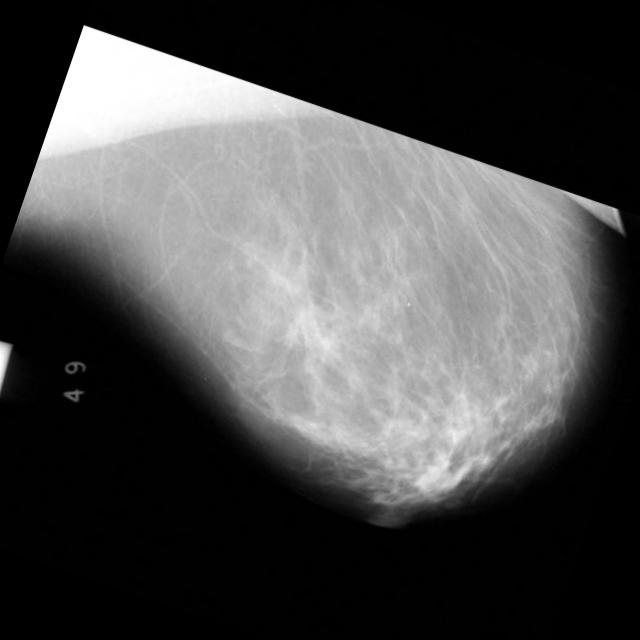ARCH: (263, 284, 360, 382)
